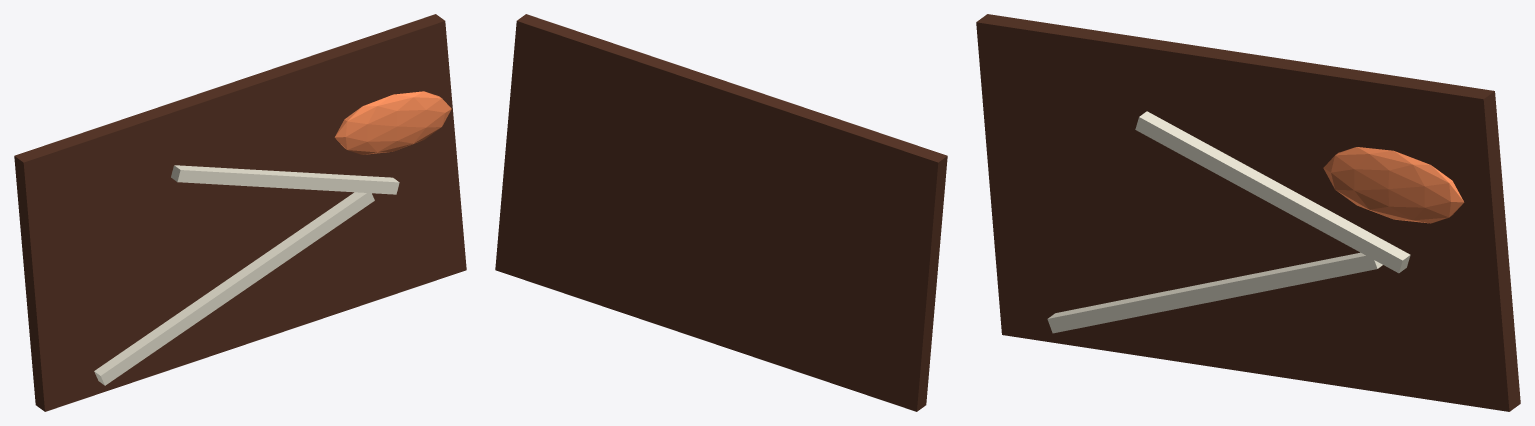
The model's file is 04_weathering_wear_overlay_4.glb.
The picture shows the model from 3 angles, left to right: view 1: azimuth 30°, elevation 25°; view 2: azimuth 150°, elevation 25°; view 3: azimuth 330°, elevation 25°; orthographic projection. The views are drawn at different scales.
Visible parts, largest first — view 1: wear_plate, scratch_a, rust_or_moss_spot, scratch_b; view 2: wear_plate; view 3: wear_plate, rust_or_moss_spot, scratch_b, scratch_a.
Boxes of the visible parts, left/top/right/bottom form: wear_plate: left=14, top=14, right=466, bottom=411; scratch_a: left=94, top=192, right=374, bottom=385; rust_or_moss_spot: left=334, top=91, right=451, bottom=154; scratch_b: left=171, top=165, right=399, bottom=194; wear_plate: left=495, top=14, right=947, bottom=411; wear_plate: left=976, top=14, right=1520, bottom=411; rust_or_moss_spot: left=1323, top=147, right=1464, bottom=223; scratch_b: left=1135, top=111, right=1410, bottom=273; scratch_a: left=1047, top=252, right=1382, bottom=333.
Size of the model in its own units: 1.36 by 0.8613 by 0.134.
